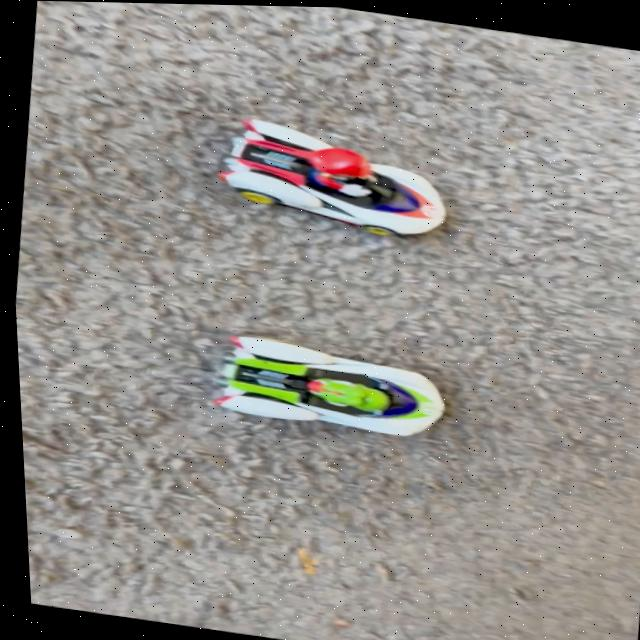mario: (196, 105, 469, 251)
yoshi: (204, 341, 465, 454)
